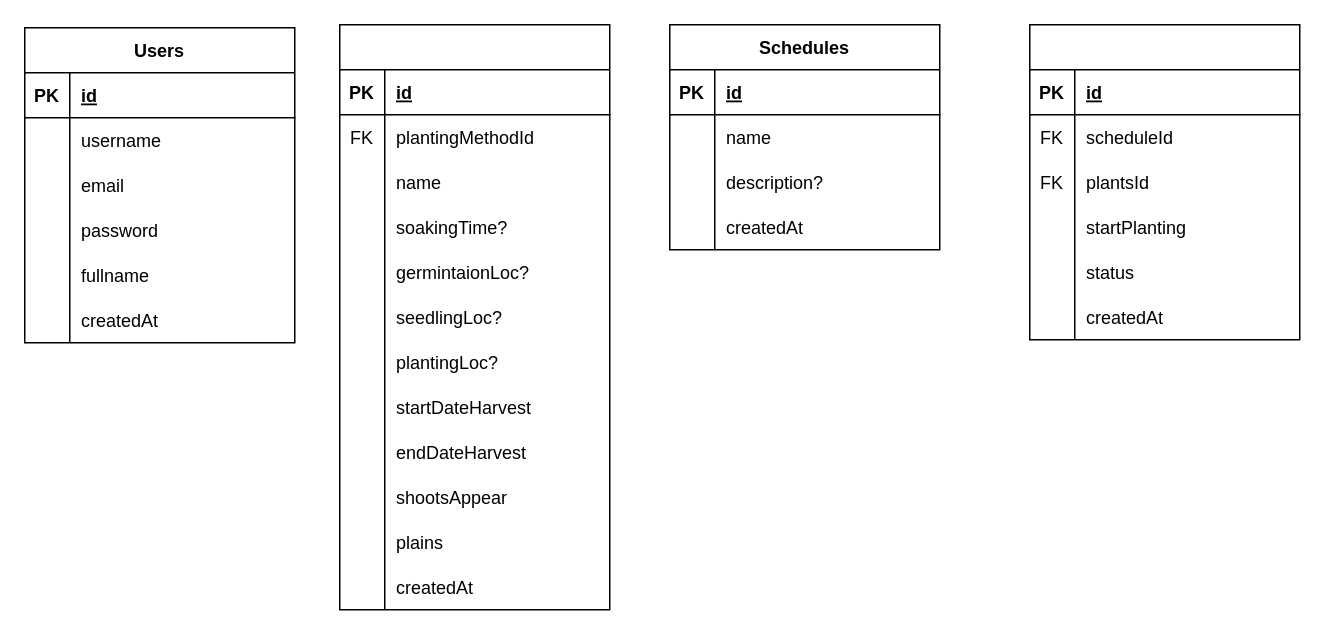
This 1325x635 diagram has some shape labels left out. The box of each missing label's shape, as (x1, y1, x2, y2) in pixels:
Item Schedules: (1028, 23, 1300, 340)
Plants: (338, 23, 610, 610)
